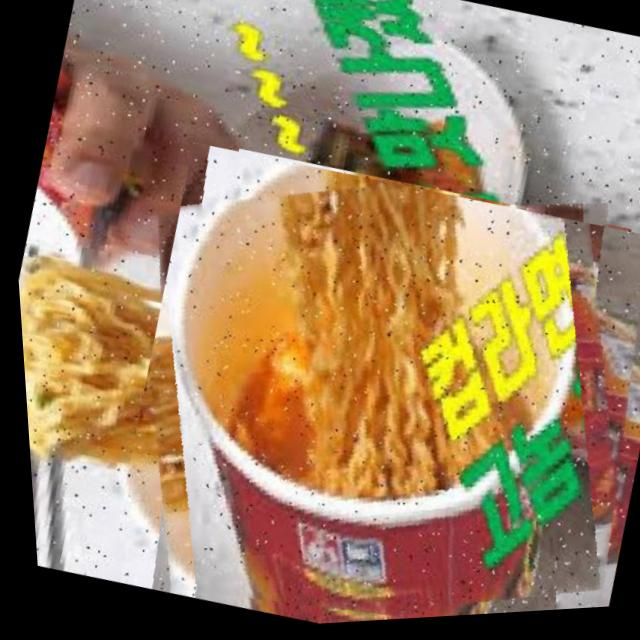Miscellaneous: (75, 121, 640, 637)
